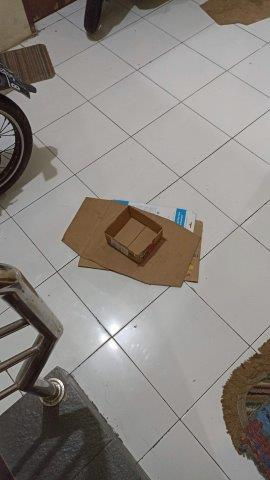kardus: (64, 197, 201, 283)
